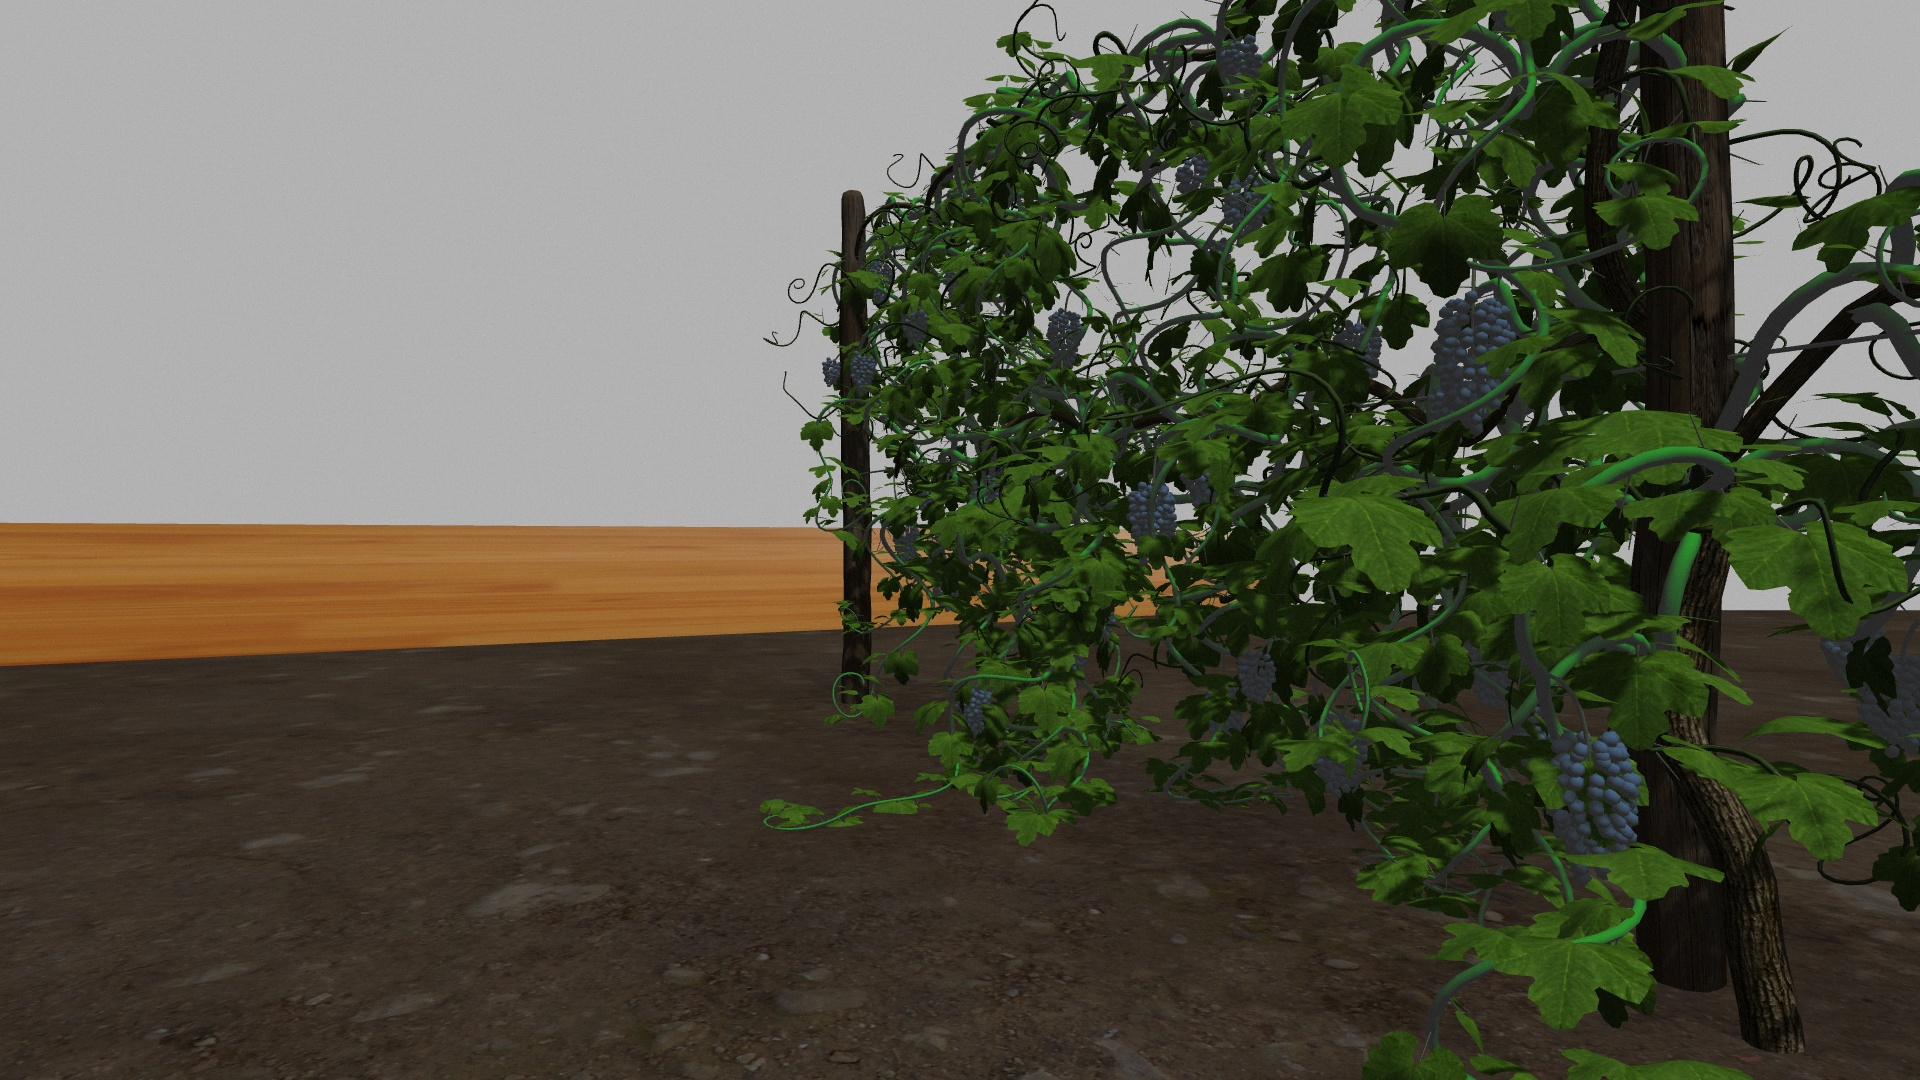grape: (1545, 732, 1647, 857), (1431, 301, 1516, 433), (1859, 665, 1913, 760), (1126, 484, 1182, 549), (1222, 177, 1269, 236), (1047, 310, 1083, 371), (1236, 649, 1276, 702), (1218, 33, 1265, 79), (963, 690, 998, 737), (899, 307, 930, 348), (1176, 157, 1208, 193), (851, 352, 877, 393), (894, 526, 920, 560), (819, 357, 844, 385)
